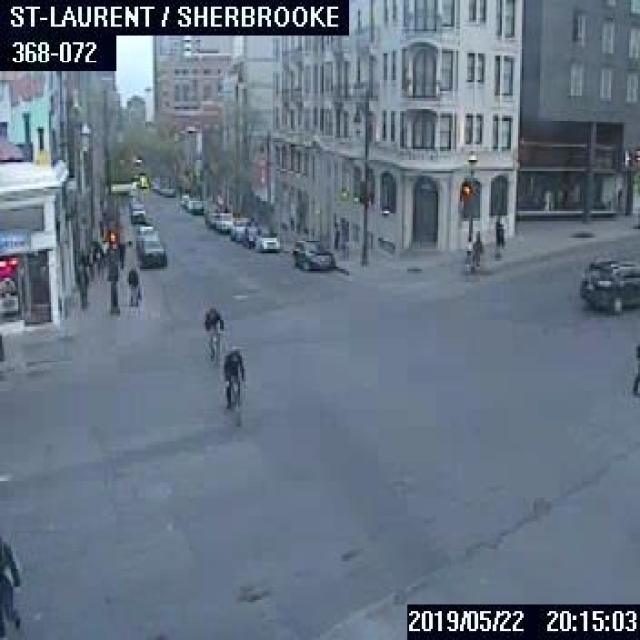cyclist: (222, 344, 242, 412), (202, 302, 224, 356)
pedestrian: (0, 536, 22, 638), (73, 260, 87, 304), (125, 266, 140, 304), (629, 340, 638, 391), (92, 245, 103, 279), (114, 238, 126, 267), (472, 230, 482, 264), (494, 212, 504, 243)
vehicle: (576, 256, 638, 314), (291, 237, 333, 269), (139, 237, 166, 267), (254, 228, 280, 250), (135, 224, 157, 248), (230, 217, 252, 240), (242, 225, 261, 245), (214, 211, 233, 230), (129, 202, 144, 222), (204, 207, 218, 224), (190, 198, 204, 212), (178, 192, 190, 205), (186, 198, 197, 210)
